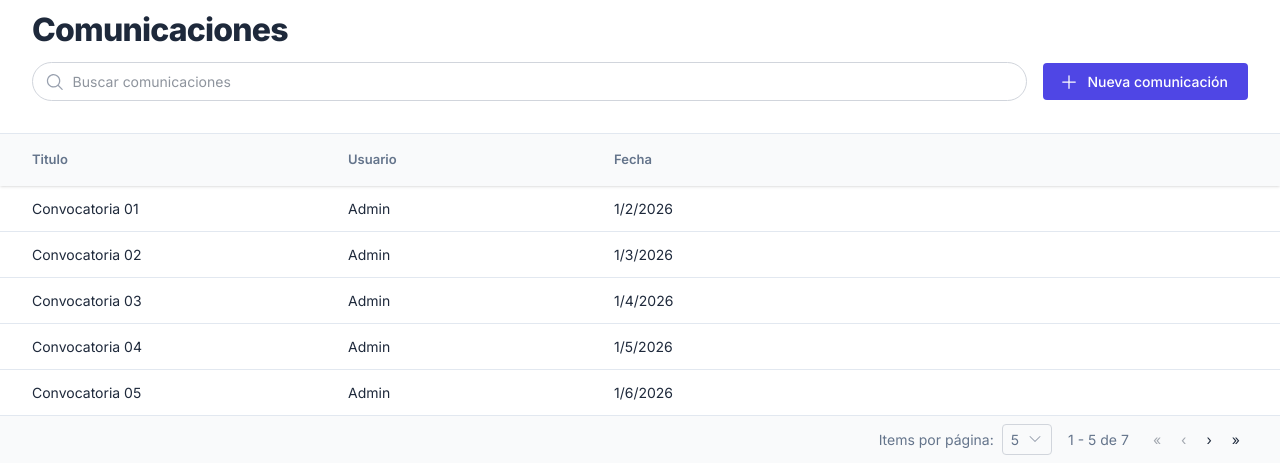
Test: AnnouncementsList › pagina de 5 en 5
expect the text "1 - 5 de 7" is shown: met, box [1068,428,1129,450]
expect the text "Convocatoria 07" is not shown: met
Click the button "›" at (1209, 439), box [1198,424,1220,454]
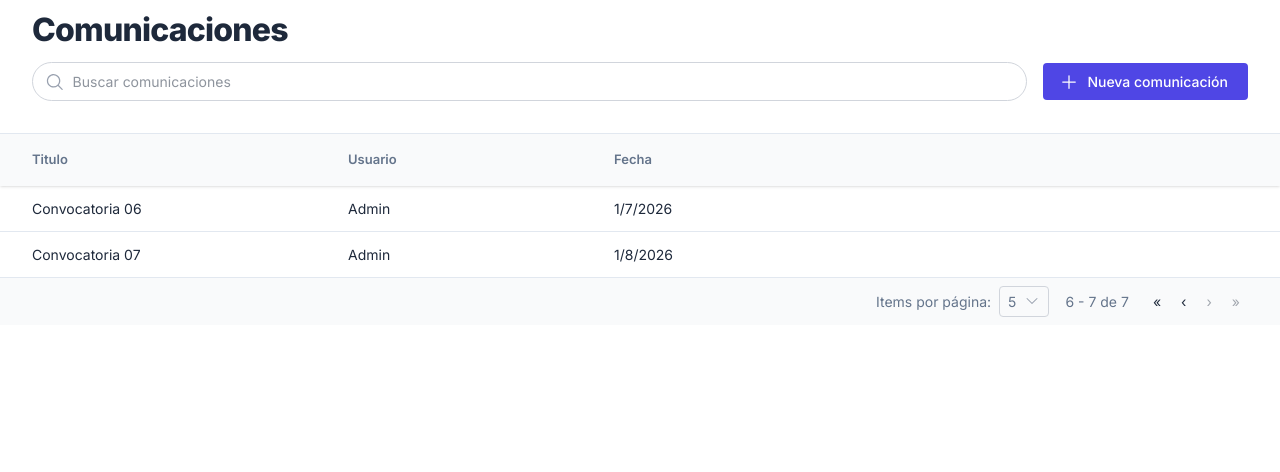
expect the text "6 - 7 de 7" is shown: met, box [1065,290,1129,312]
